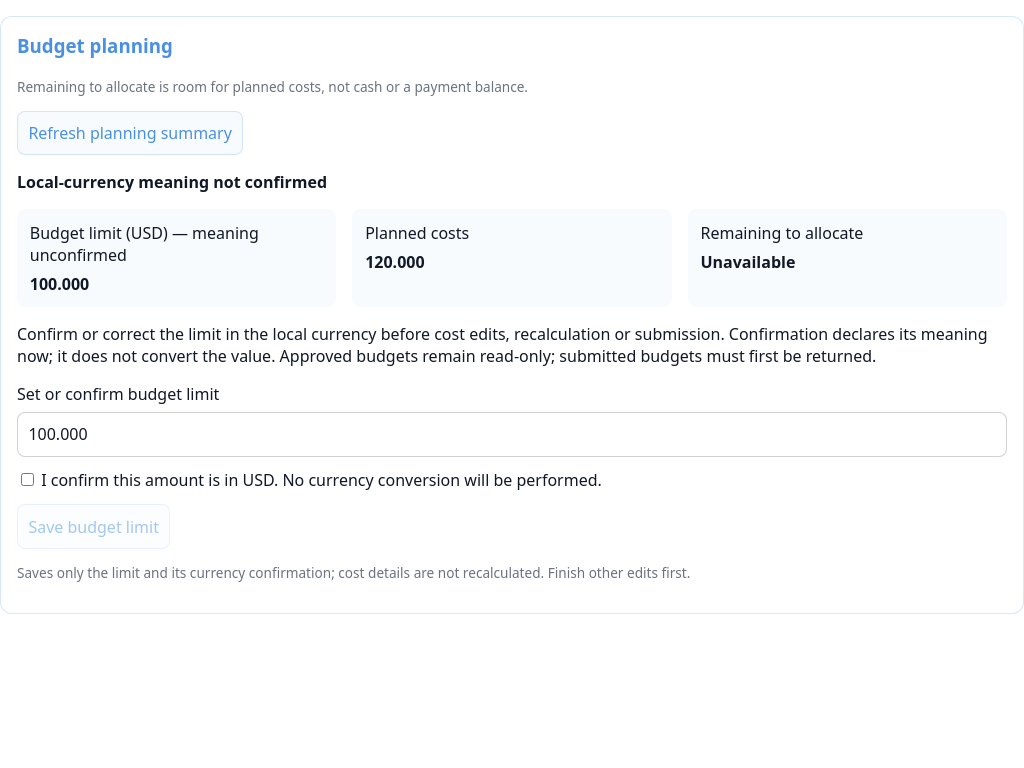
Scenario: limit failures remain errors and do not announce a successful save
This screenshot has width=1024, height=768.
Check: the text "Local-currency meaning not confirmed" is shown, box [17,172,327,194]
Step 1. Click the checkbox → [28, 480], box [21,473,34,486]
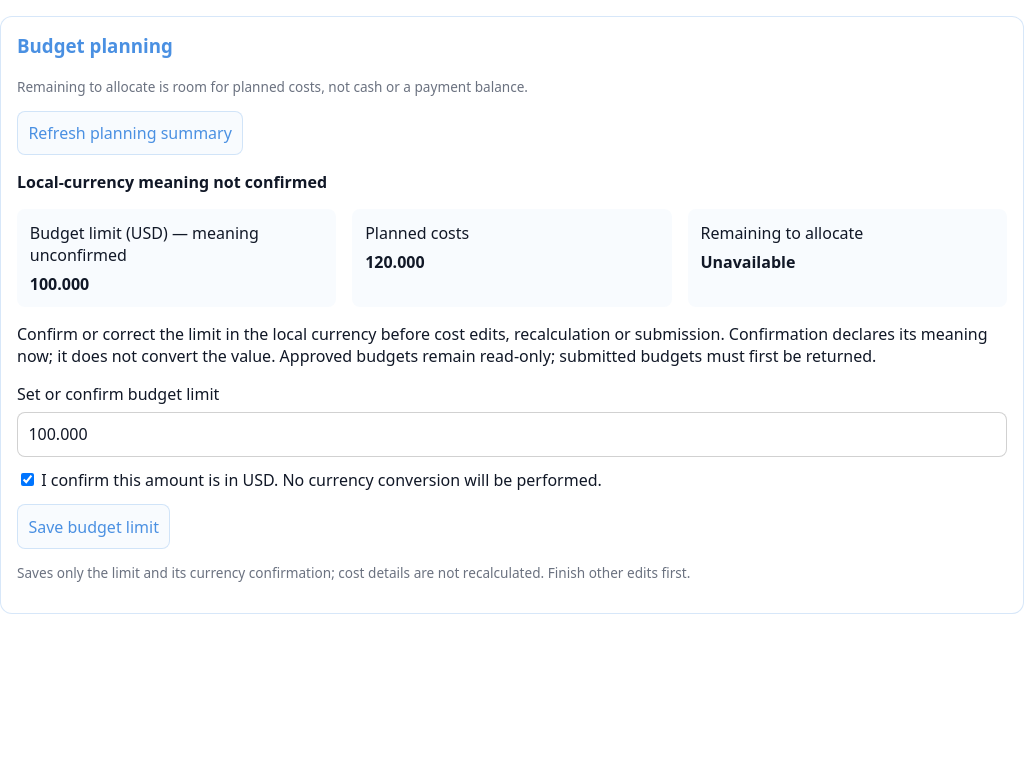
Step 2. Click the button "Save budget limit" → [94, 527], box [17,504,170,549]
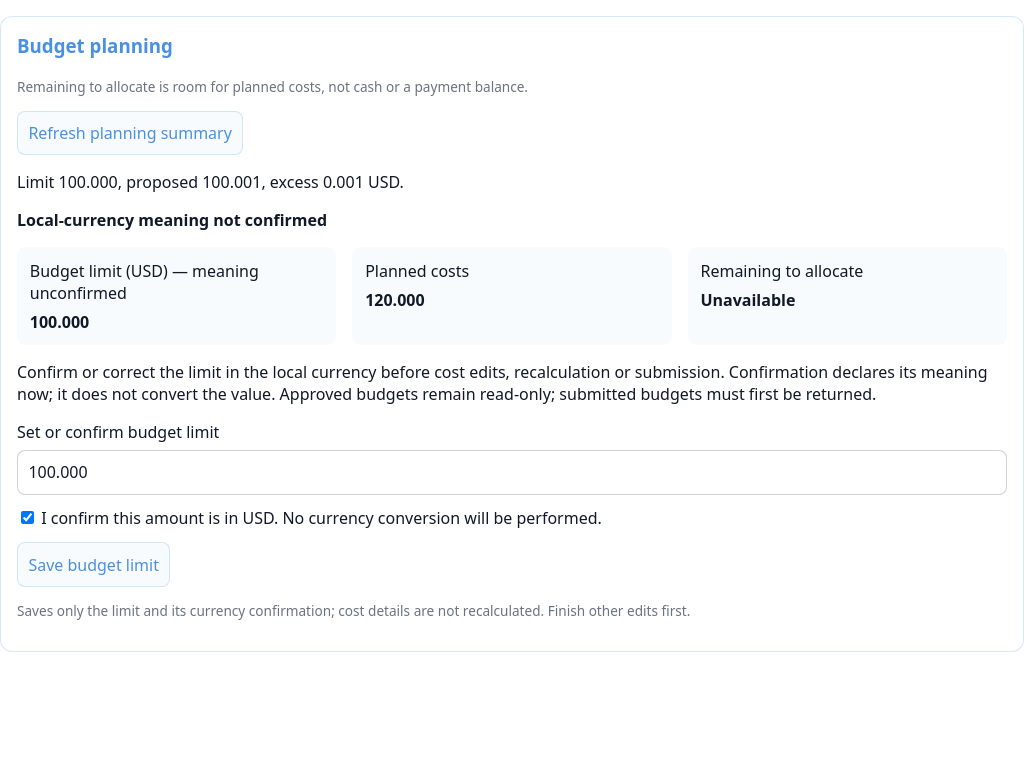
Check: the message shows "excess 0.001 USD", box [17,172,404,194]
